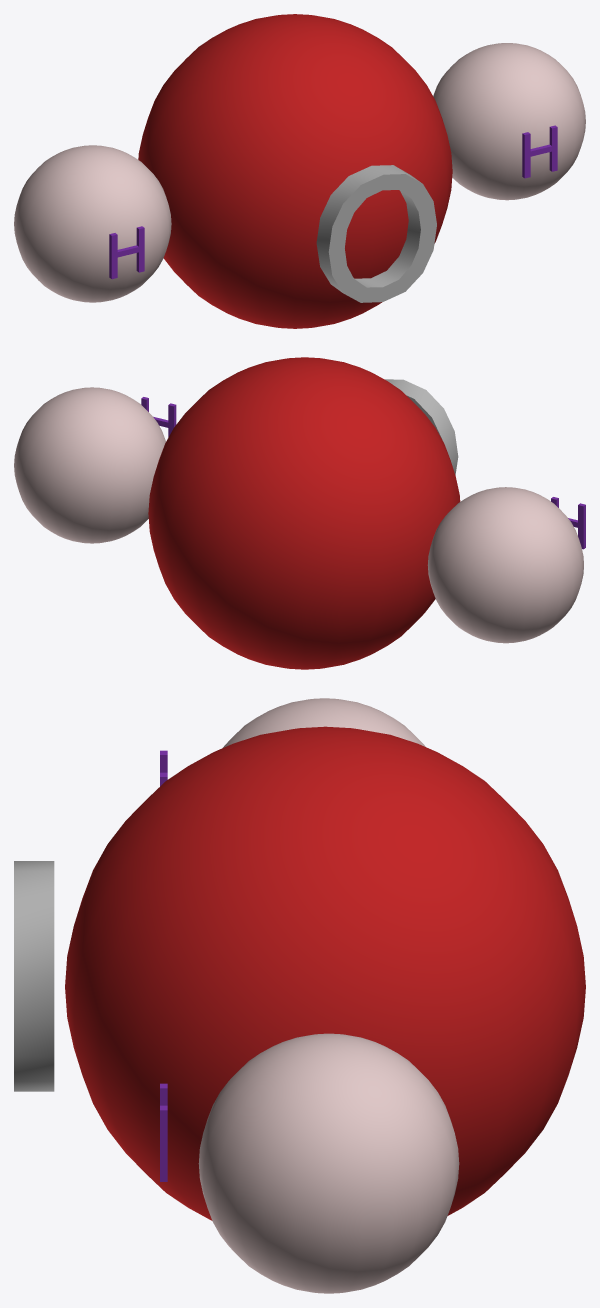
The picture shows the model from 3 angles, top to bottom: view 1: azimuth 30°, elevation 25°; view 2: azimuth 150°, elevation 25°; view 3: azimuth 270°, elevation 25°; orthographic projection. The views are drawn at different scales.
Parts seen in each view (by area): view 1: Sphere1, Sphere, Sphere2, Text, NaCl, NaCl 1; view 2: Sphere1, Sphere, Sphere2, Text, NaCl, NaCl 1; view 3: Sphere1, Sphere2, Text, Sphere, NaCl 1.
Boxes of the visible parts, x1=… form: Sphere1: x1=138, y1=14, x2=452, y2=328; Sphere: x1=14, y1=145, x2=171, y2=302; Sphere2: x1=433, y1=43, x2=585, y2=200; Text: x1=316, y1=165, x2=436, y2=302; NaCl: x1=109, y1=226, x2=144, y2=279; NaCl 1: x1=522, y1=125, x2=557, y2=178; Sphere1: x1=148, y1=357, x2=460, y2=669; Sphere: x1=427, y1=487, x2=583, y2=643; Sphere2: x1=14, y1=387, x2=165, y2=543; Text: x1=385, y1=379, x2=458, y2=475; NaCl: x1=551, y1=497, x2=585, y2=549; NaCl 1: x1=141, y1=397, x2=176, y2=437; Sphere1: x1=65, y1=726, x2=585, y2=1220; Sphere2: x1=198, y1=1033, x2=459, y2=1293; Text: x1=14, y1=861, x2=54, y2=1091; Sphere: x1=223, y1=698, x2=425, y2=747; NaCl 1: x1=160, y1=1083, x2=167, y2=1181.
Bounding box in the file's own units: 2.02 × 1 × 1.1.
